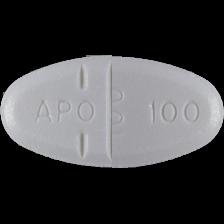60505-2659: (0, 0, 224, 224)
